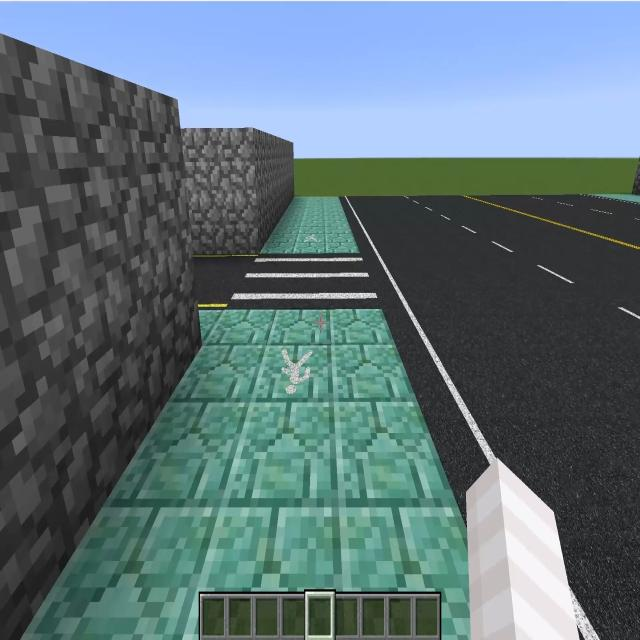crosswalk: (228, 256, 379, 305)
road: (343, 195, 640, 639), (195, 258, 254, 309)
sidewalk: (24, 307, 469, 639), (261, 197, 359, 254), (594, 194, 640, 201)
